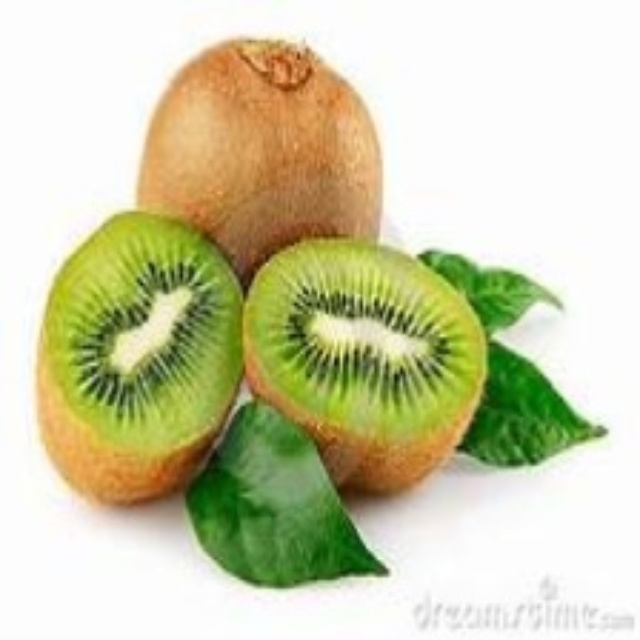kiwi: (247, 239, 488, 501), (30, 214, 238, 509), (140, 35, 386, 268)
